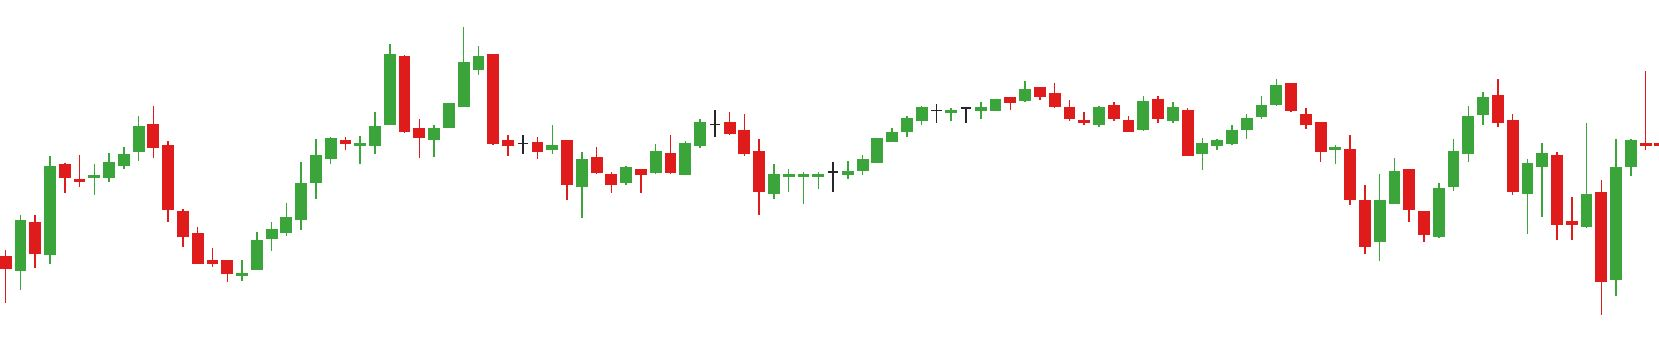buy: (1356, 130, 1625, 317)
sell: (382, 25, 503, 124), (1130, 78, 1300, 142)
